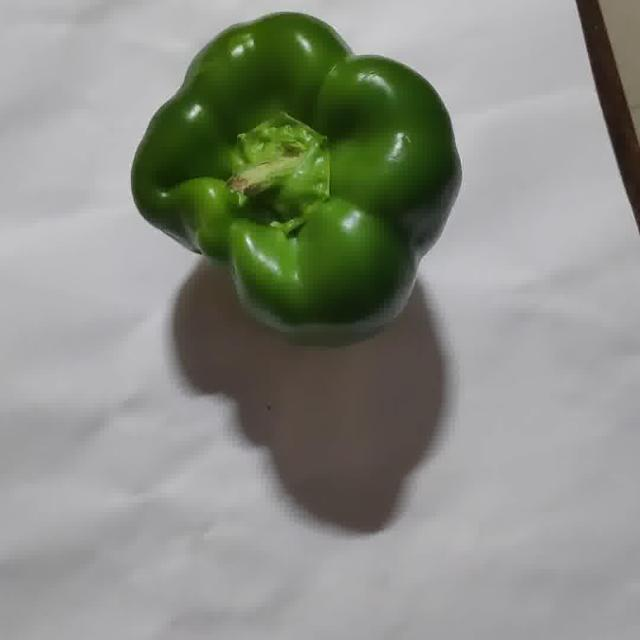Bell Pepper: (132, 12, 461, 333)
